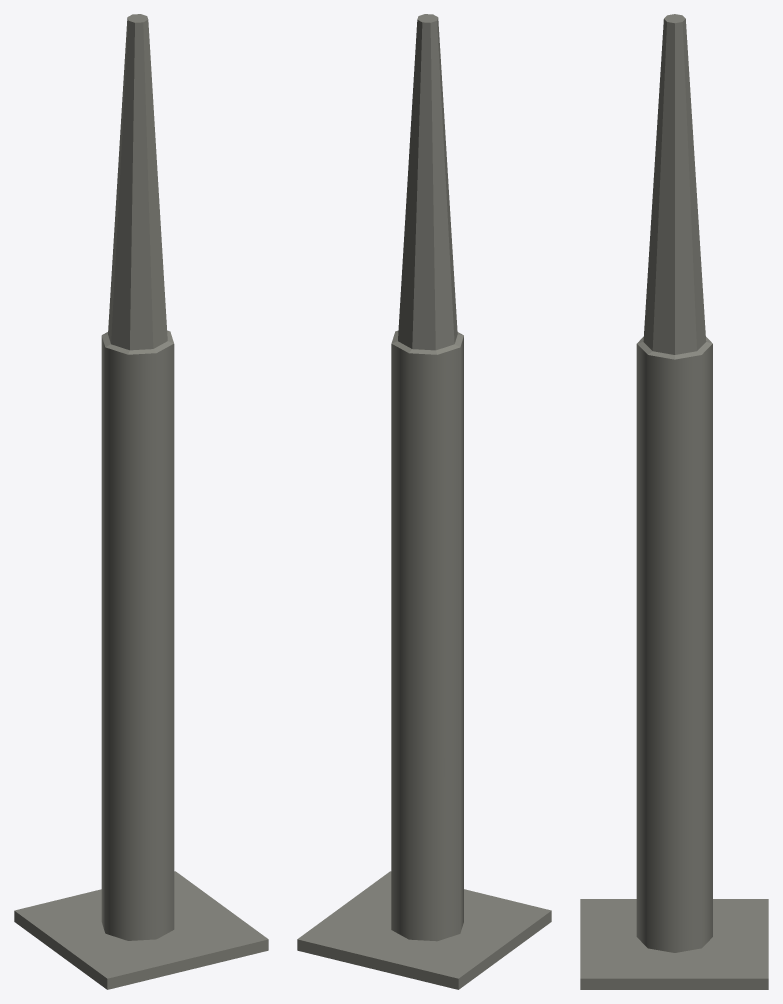
The model's file is bld_roof_element_02.fbx.
3 views of the same model, side by side, from view 1: azimuth 30°, elevation 25°; view 2: azimuth 150°, elevation 25°; view 3: azimuth 270°, elevation 25° (orthographic).
Parts seen in each view (by area): view 1: bld_roof_element_02; view 2: bld_roof_element_02; view 3: bld_roof_element_02.
Part boxes in pixels (x1,y1,x2,y2): bld_roof_element_02: (14, 14, 268, 989); bld_roof_element_02: (297, 14, 551, 989); bld_roof_element_02: (580, 14, 768, 989).
Bounding box in the file's own units: 45 × 245 × 45.
